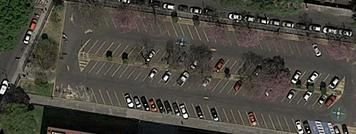parkingspot: (79, 38, 345, 90), (78, 8, 333, 60), (80, 59, 338, 110), (76, 86, 314, 134)
